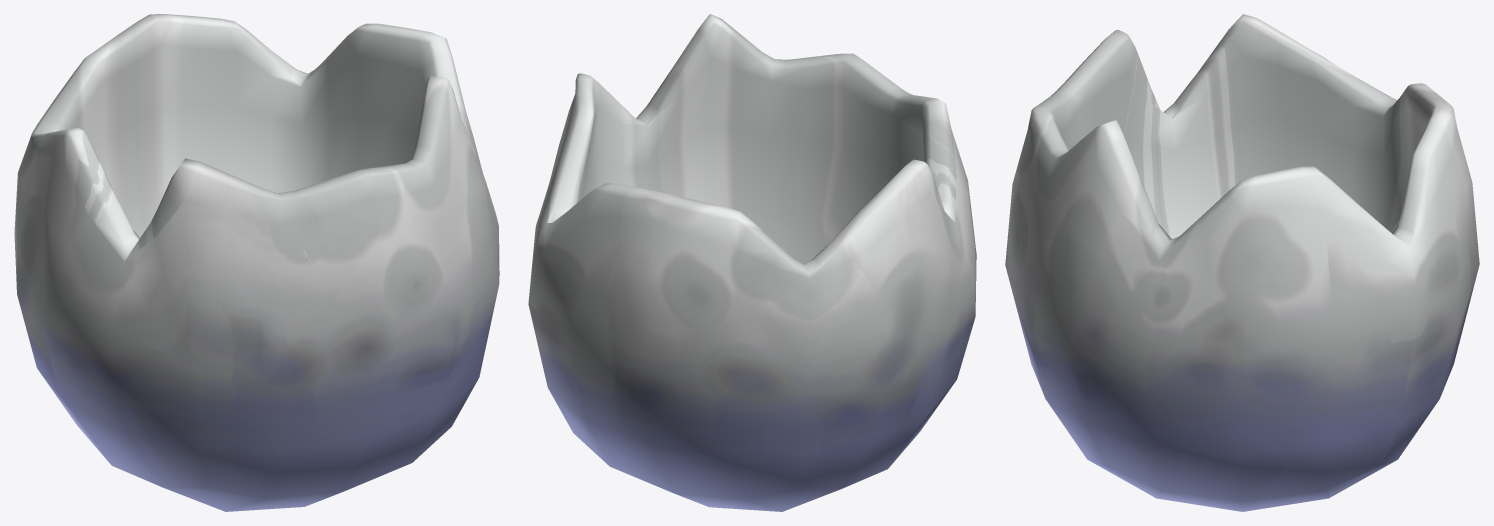
Rendered from eggbroken.fbx.
3 renders of one model, left to right at view 1: azimuth 30°, elevation 25°; view 2: azimuth 150°, elevation 25°; view 3: azimuth 270°, elevation 25°, orthographic. The views are drawn at different scales.
Visible parts, largest first — view 1: Cube.001; view 2: Cube.001; view 3: Cube.001.
Part boxes in pixels (<box>): Cube.001: <box>14,14,499,511</box>; Cube.001: <box>528,14,976,511</box>; Cube.001: <box>1005,14,1479,511</box>.
Size of the model in its own units: 147 by 144 by 148.
1 material, 1 textured.
